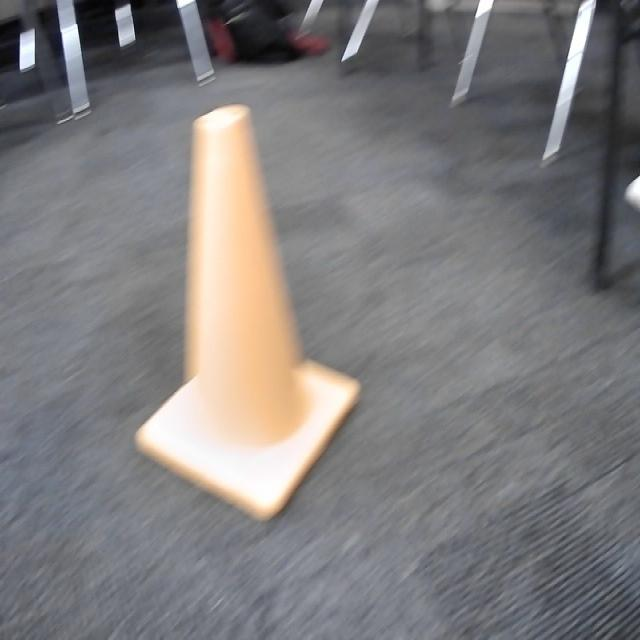cone: (133, 100, 365, 532)
